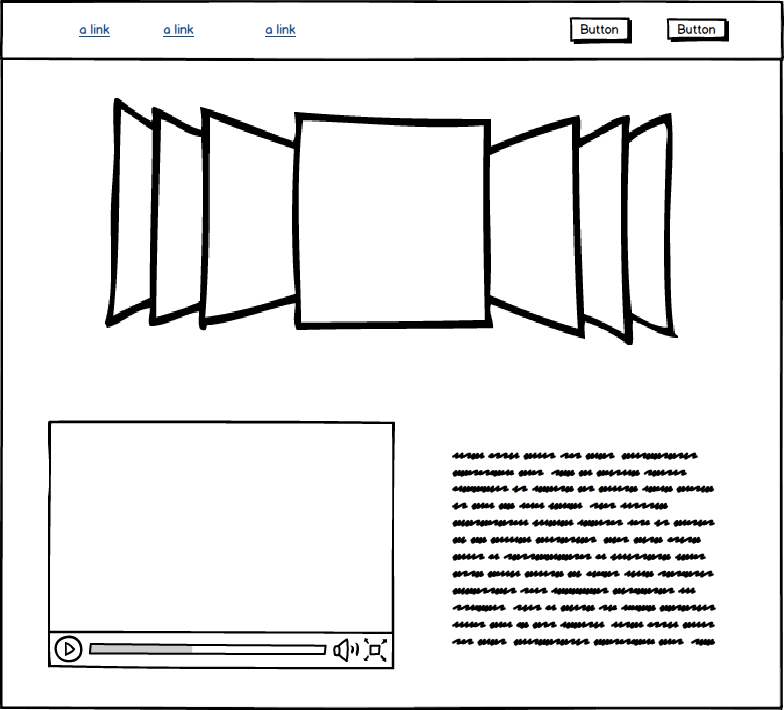button: (662, 13, 737, 46), (565, 12, 636, 45)
navlink: (68, 13, 121, 43), (253, 16, 304, 44), (152, 18, 202, 41)
p: (446, 444, 731, 654)
slideshow: (98, 91, 685, 357)
video: (45, 414, 398, 676)
